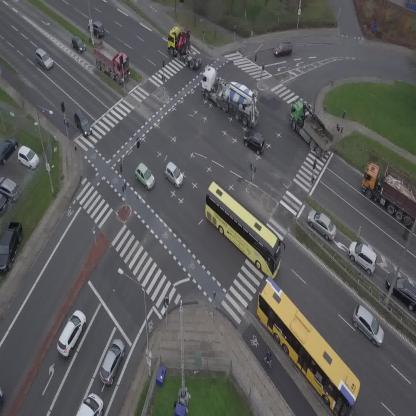bicycle: (264, 350, 272, 368)
bus: (238, 275, 374, 416), (189, 179, 297, 280)
car: (346, 303, 391, 348), (52, 308, 91, 358), (96, 336, 130, 387), (343, 237, 385, 277), (302, 206, 343, 244), (240, 127, 270, 156), (131, 162, 160, 191), (160, 161, 188, 189), (70, 109, 94, 139), (30, 46, 56, 72), (85, 17, 108, 39), (67, 33, 88, 55), (274, 41, 293, 56)
lorry: (190, 62, 271, 131), (279, 95, 340, 159), (84, 36, 138, 87), (160, 20, 206, 77), (77, 393, 104, 416)
